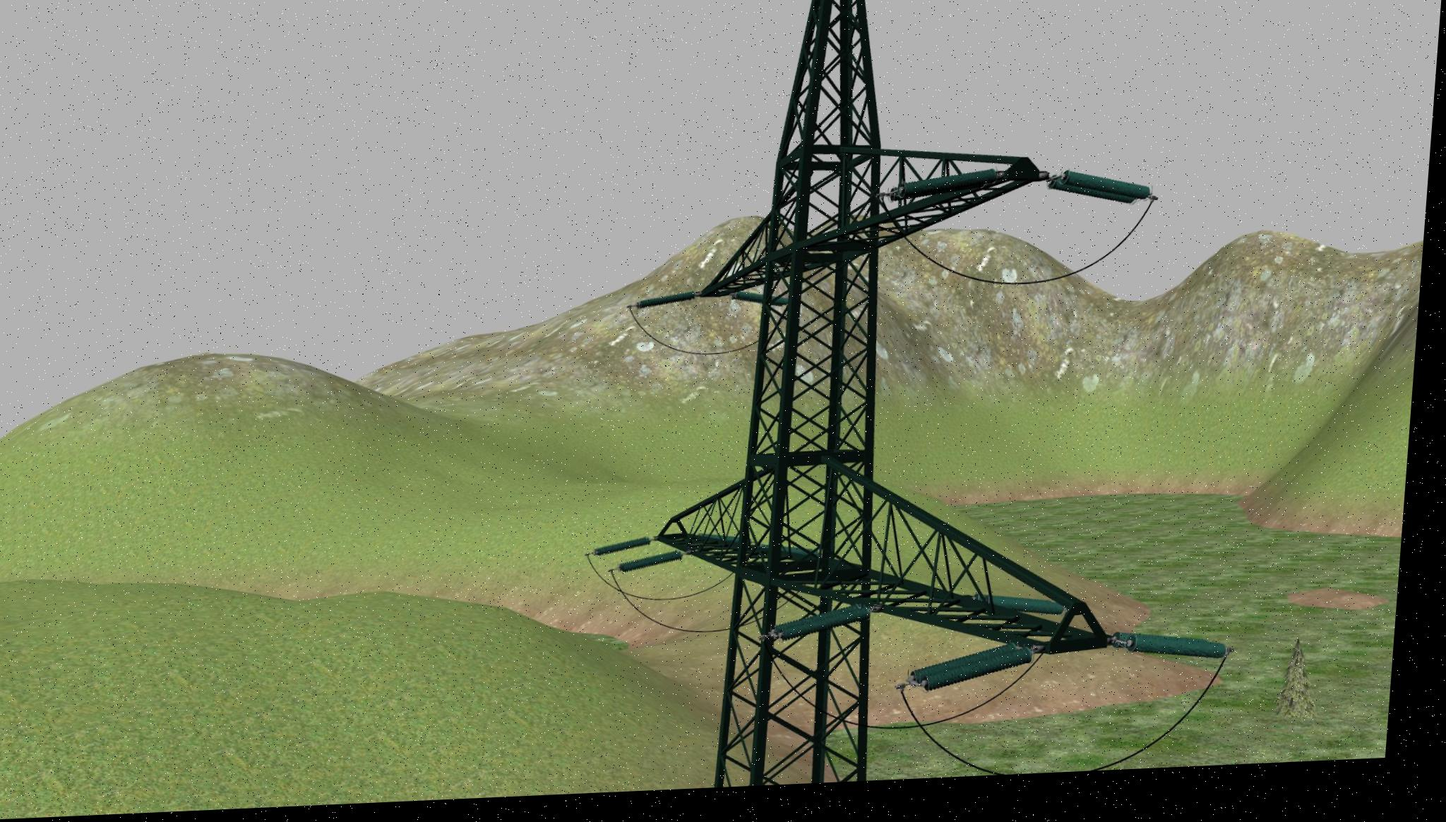tower: (633, 0, 1157, 791)
